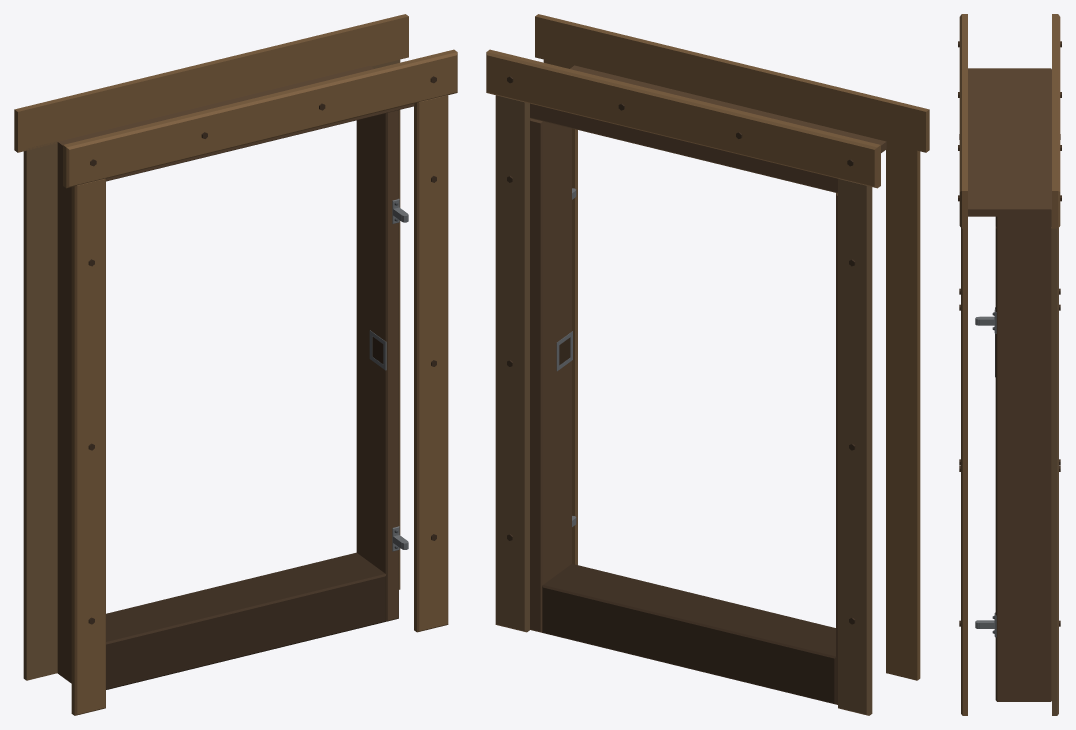
File: SM_LPD_Door_DoorFrameTimber_01.fbx
3 renders of one model, left to right at view 1: azimuth 30°, elevation 25°; view 2: azimuth 150°, elevation 25°; view 3: azimuth 270°, elevation 25°, orthographic. The views are drawn at different scales.
Visible parts, largest first — view 1: SM_LPD_Door_DoorFrameTimber_01; view 2: SM_LPD_Door_DoorFrameTimber_01; view 3: SM_LPD_Door_DoorFrameTimber_01.
Part boxes in pixels (box(x1,y1,x2,y2)): SM_LPD_Door_DoorFrameTimber_01: box(14, 14, 457, 715); SM_LPD_Door_DoorFrameTimber_01: box(486, 14, 929, 715); SM_LPD_Door_DoorFrameTimber_01: box(958, 14, 1061, 715).
Size of the model in its own units: 2 by 2.79 by 0.496.
